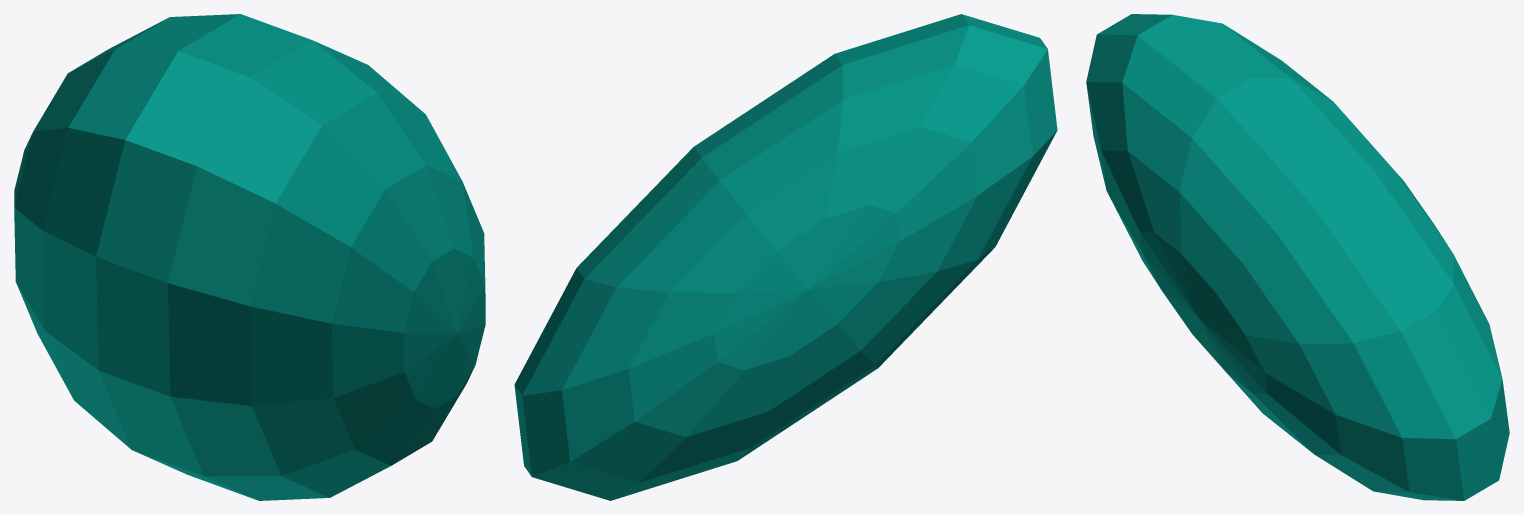
File: n5_n5_group1907834523_lev5.glb
3 views of the same model, side by side, from view 1: azimuth 30°, elevation 25°; view 2: azimuth 150°, elevation 25°; view 3: azimuth 270°, elevation 25° (orthographic). The views are drawn at different scales.
Parts seen in each view (by area): view 1: n5_n5_group1907834523_lev5; view 2: n5_n5_group1907834523_lev5; view 3: n5_n5_group1907834523_lev5.
Part boxes in pixels (bbox=[...]): n5_n5_group1907834523_lev5: bbox=[14, 14, 485, 500]; n5_n5_group1907834523_lev5: bbox=[514, 14, 1057, 500]; n5_n5_group1907834523_lev5: bbox=[1086, 14, 1509, 500].
Size of the model in its own units: 1.79 by 1.89 by 1.89.
